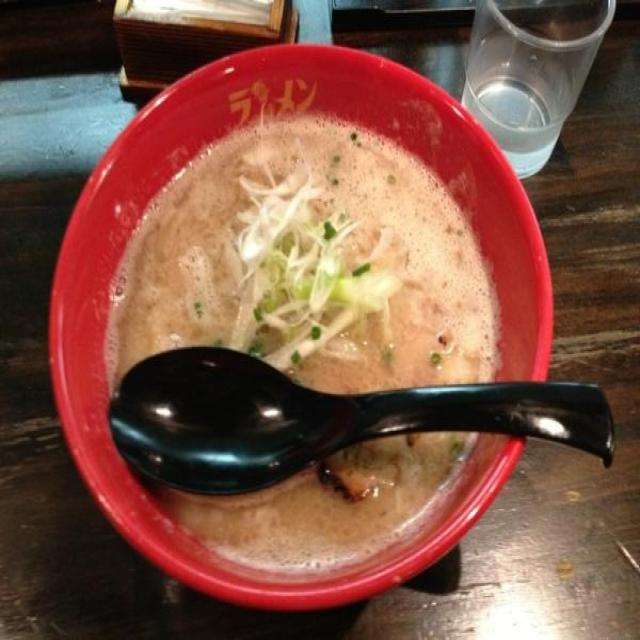面条主食: (33, 30, 563, 623)
